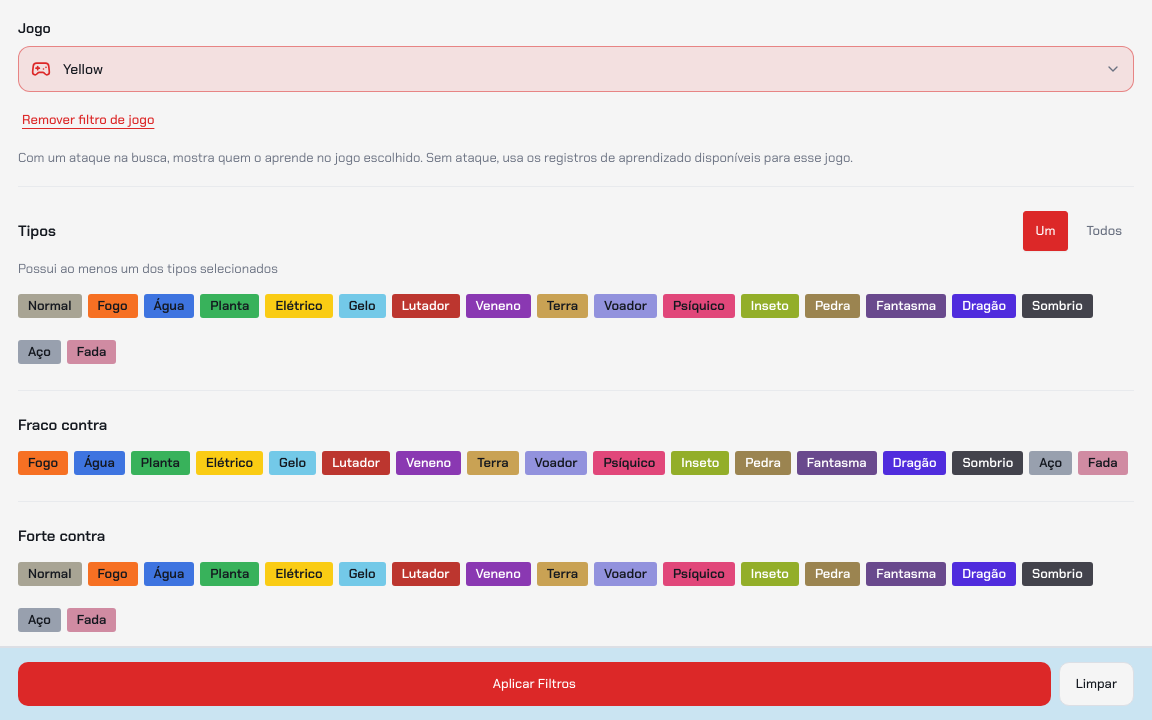
Test: game filter controls › handles an empty search and Escape without losing the selection
Later steps or results of the test are not shown.
Click the button named "Jogo Yellow".
click(83, 69)  # box [18,46,1134,92]
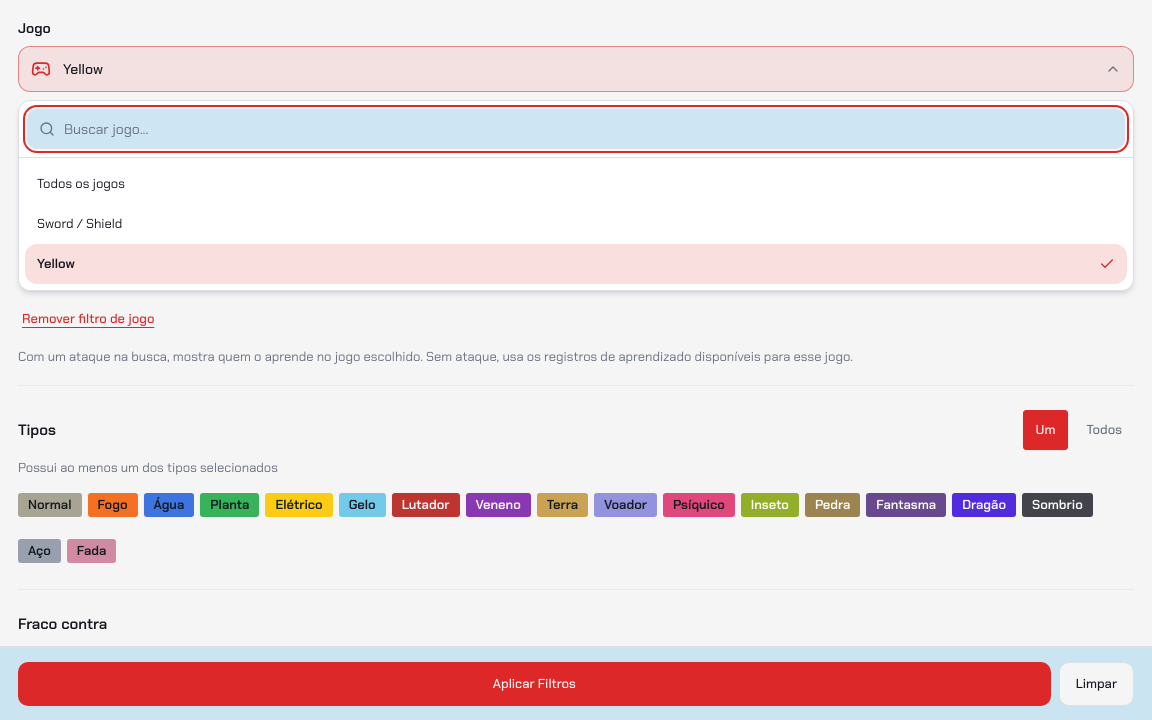
Type "inexistente" into the search field labelled "Buscar jogo".
click(576, 129); type("inexistente")  # box [27,109,1125,149]
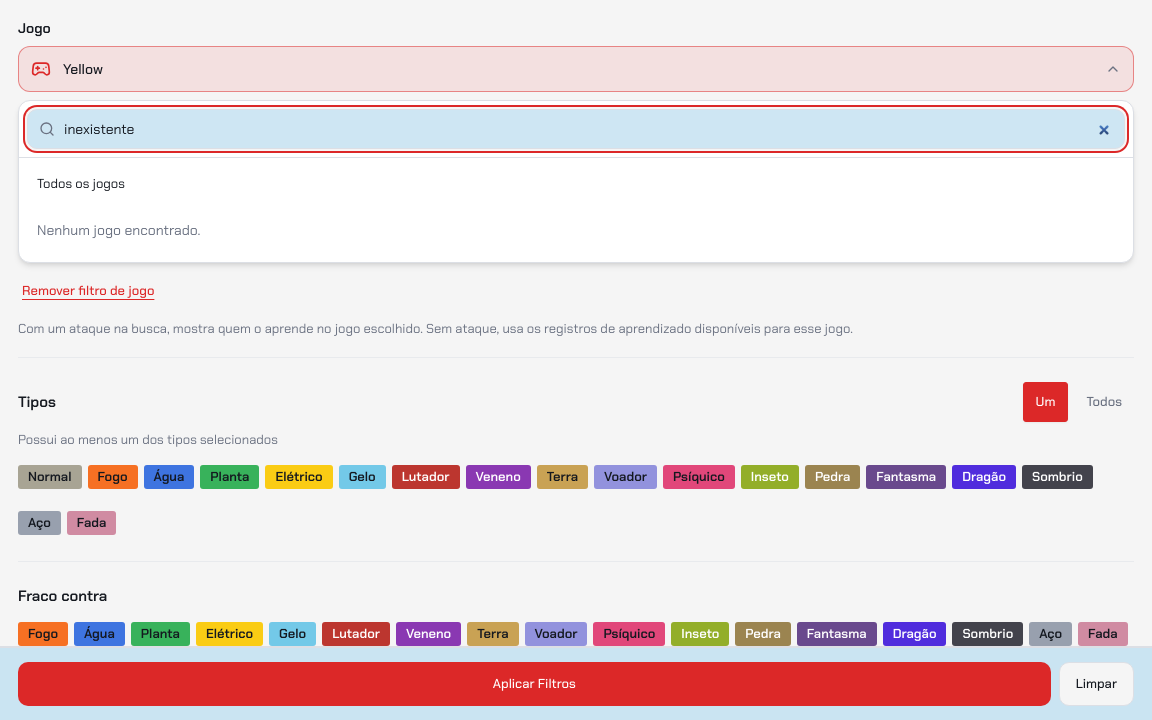
Check: the text "Nenhum jogo encontrado." is shown, box [37,221,200,239]
Press Escape in the search field named "Buscar jogo", box [27,109,1125,149]
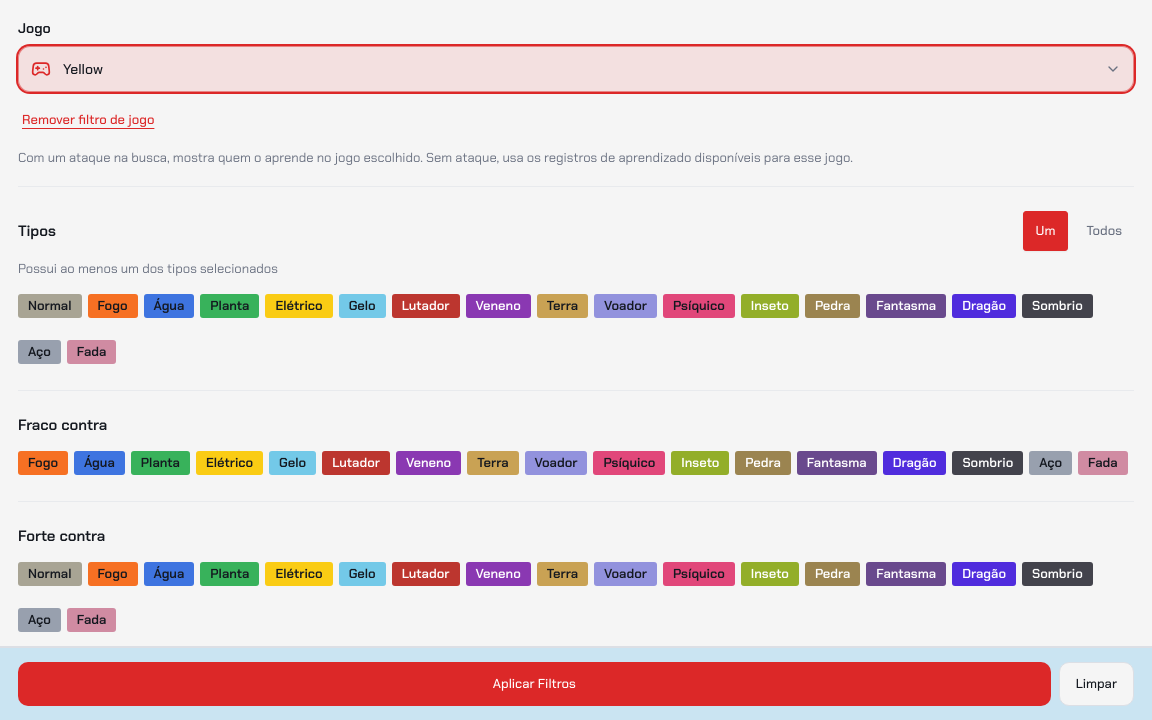
Check: the button named "Jogo Yellow" is collapsed
Click the button named "Jogo Yellow".
click(83, 69)  # box [18,46,1134,92]
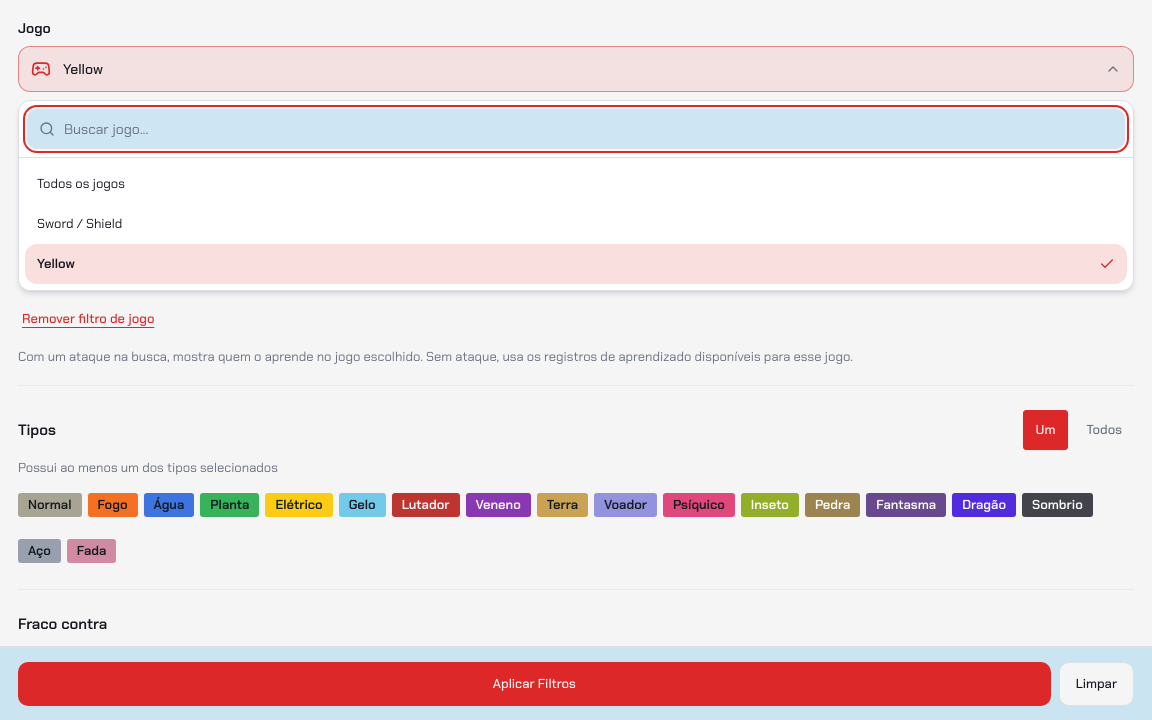
Check: the search field labelled "Buscar jogo" is empty, box [27,109,1125,149]
